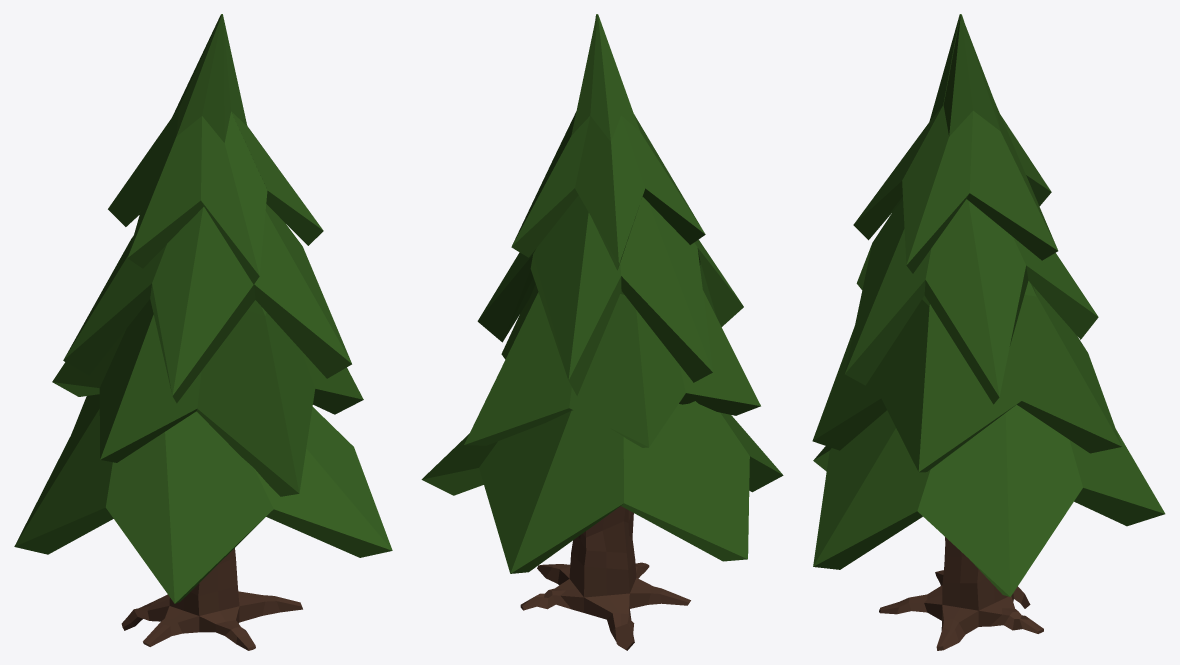
Rendered from ебучая ель.fbx.
3 views of the same model, side by side, from view 1: azimuth 30°, elevation 25°; view 2: azimuth 150°, elevation 25°; view 3: azimuth 270°, elevation 25° (orthographic). The views are drawn at different scales.
Visible parts, largest first — view 1: Cube, Cube.001; view 2: Cube, Cube.001; view 3: Cube, Cube.001.
Part boxes in pixels (box(x1,y1,x2,y2)): Cube: box(14, 14, 392, 603); Cube.001: box(121, 548, 302, 650); Cube: box(421, 14, 783, 573); Cube.001: box(520, 506, 690, 650); Cube: box(812, 14, 1165, 596); Cube.001: box(879, 537, 1043, 650).
Bounding box in the file's own units: 658 × 1151 × 590.
